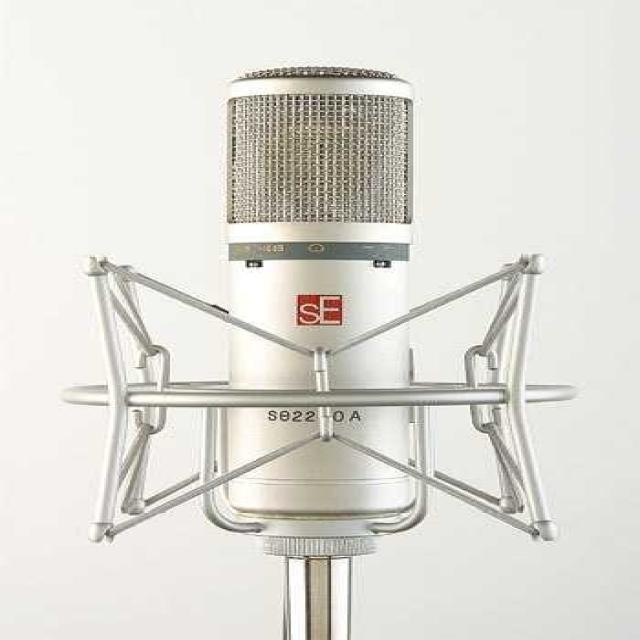microphone: (226, 78, 418, 532)
